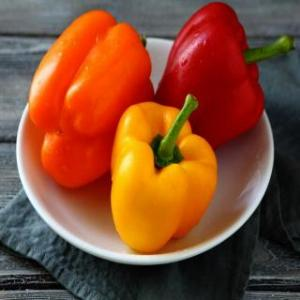bell_pepper: (28, 10, 158, 189), (160, 3, 290, 145), (112, 95, 216, 253)
